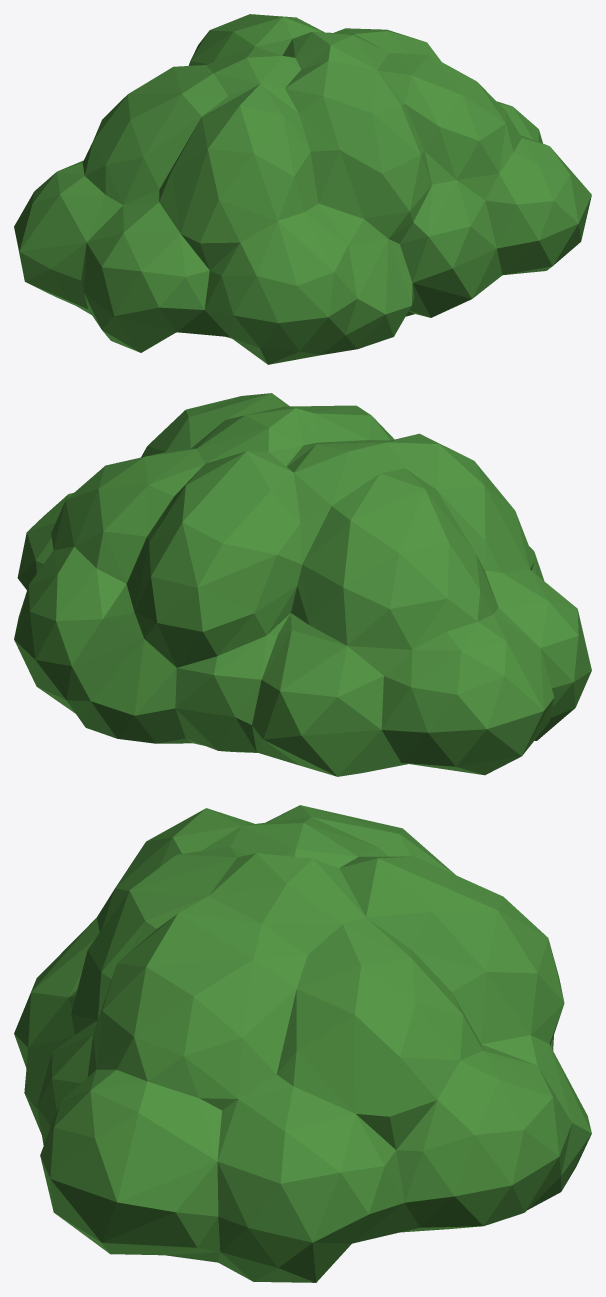
File: bush.fbx
3 views of the same model, one above another, from view 1: azimuth 30°, elevation 25°; view 2: azimuth 150°, elevation 25°; view 3: azimuth 270°, elevation 25° (orthographic). The views are drawn at different scales.
Parts seen in each view (by area): view 1: bush_LOD0; view 2: bush_LOD0; view 3: bush_LOD0.
Part boxes in pixels (x1,y1,x2,y2): bush_LOD0: (14,14,591,364); bush_LOD0: (14,393,591,776); bush_LOD0: (14,805,591,1282).
Size of what is drawn, in the model's own units: 291 by 145 by 224.
